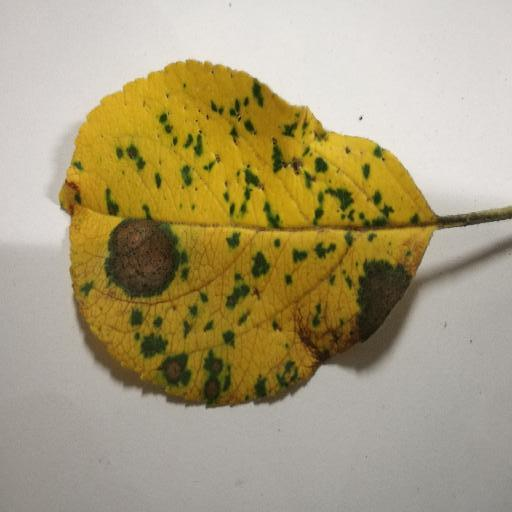Brown_Spot: (108, 207, 184, 294), (364, 265, 396, 324), (301, 323, 333, 360), (198, 359, 219, 406), (162, 361, 181, 380)
